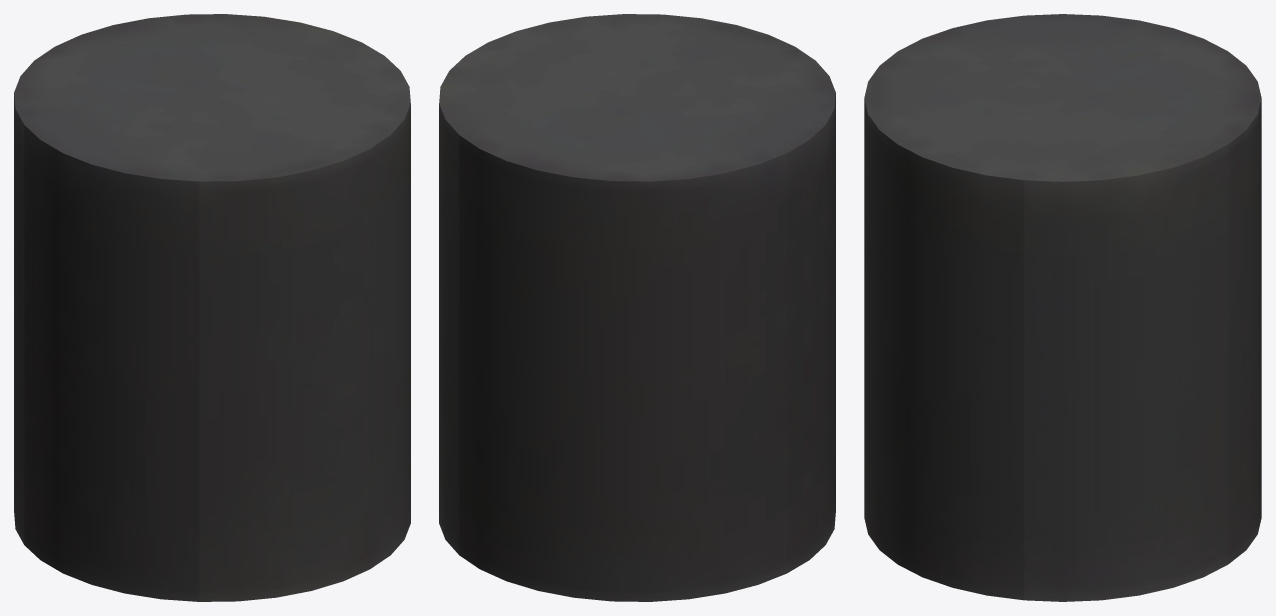
File: upper_arm__rear_hub.glb
3 renders of one model, left to right at view 1: azimuth 30°, elevation 25°; view 2: azimuth 150°, elevation 25°; view 3: azimuth 270°, elevation 25°, orthographic.
Parts seen in each view (by area): view 1: geometry_0; view 2: geometry_0; view 3: geometry_0.
Part boxes in pixels (box(x1,y1,x2,y2)): geometry_0: box(14, 14, 410, 601); geometry_0: box(439, 14, 835, 601); geometry_0: box(864, 14, 1261, 601).
Size of the model in its own units: 0.012 by 0.014 by 0.012.
Materials: 1 (1 with a texture image).
